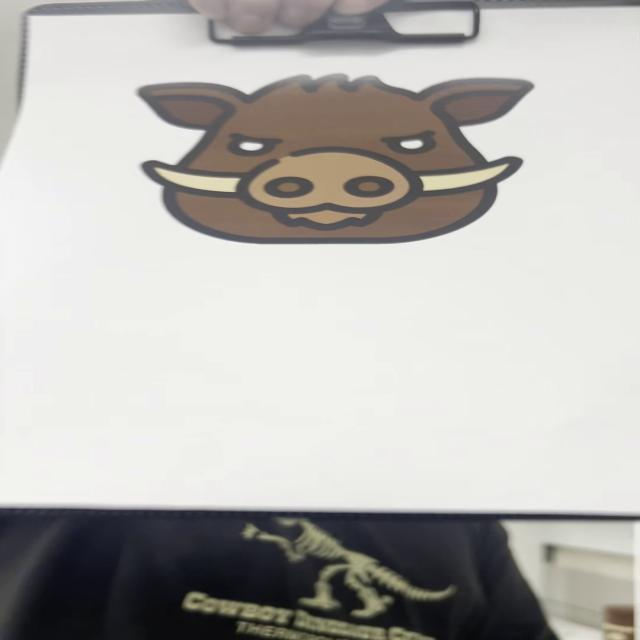animal: (136, 71, 543, 247)
